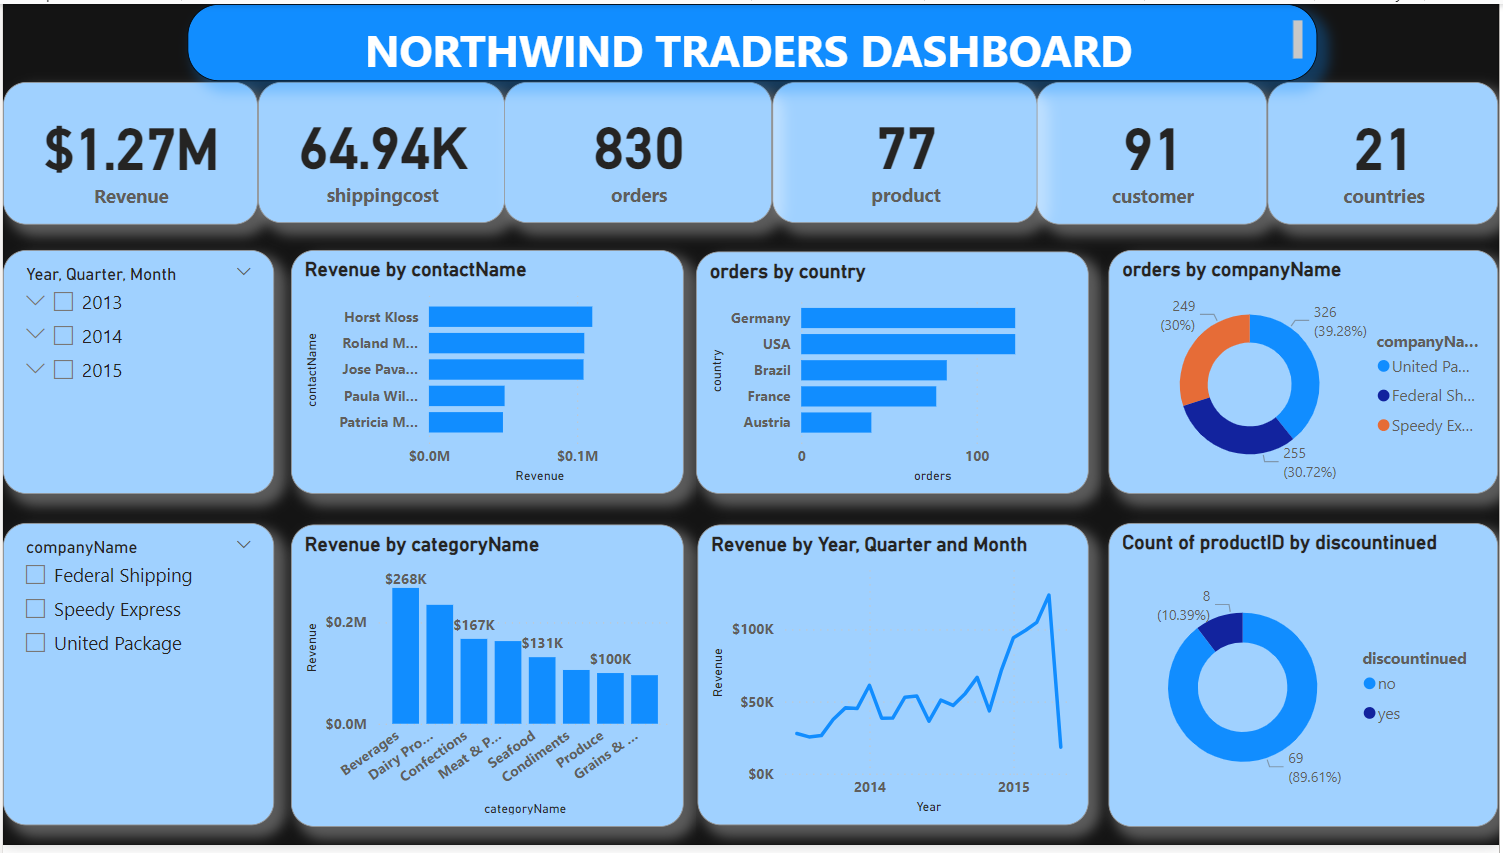

Layout of this report page (visuals, bound fields, positions):
{"tool":"powerbi","page":{"name":"Page 1","canvas":[1280,720],"ordinal":0},"visuals":[{"type":"card","fields":{"Values":["measure.Revenue"]},"box":[0,66.2,217.7,122.2],"z":0},{"type":"card","fields":{"Values":["measure.shippingcost"]},"box":[217.7,66.2,211.4,121],"z":1000},{"type":"card","fields":{"Values":["measure.customer"]},"box":[884.9,66.2,197.3,122.2],"z":2000},{"type":"card","fields":{"Values":["measure.product"]},"box":[658.3,66.2,226.6,121],"z":3000},{"type":"card","fields":{"Values":["measure.orders"]},"box":[429.1,66.2,229.2,121],"z":4000},{"type":"card","fields":{"Values":["measure.countries"]},"box":[1082.2,66.2,197.3,122.2],"z":5000},{"type":"slicer","fields":{"Values":["orders.orderDate.Variation.Date Hierarchy.Year","orders.orderDate.Variation.Date Hierarchy.Quarter","orders.orderDate.Variation.Date Hierarchy.Month"]},"box":[0,210.1,231.7,208.8],"z":6000},{"type":"slicer","fields":{"Values":["shippers.companyName"]},"box":[0,444.4,231.7,258.5],"z":7000},{"type":"clusteredBarChart","fields":{"Y":["measure.Revenue"],"Category":["customers.contactName"]},"box":[247,210.1,336.1,208.8],"z":8000},{"type":"clusteredBarChart","fields":{"Y":["measure.orders"],"Category":["customers.country"]},"box":[593.3,211.4,336.1,207.5],"z":9000},{"type":"columnChart","fields":{"Y":["measure.Revenue"],"Category":["categories.categoryName"]},"box":[247,445.6,336.1,258.5],"z":10000},{"type":"lineChart","fields":{"Y":["measure.Revenue"],"Category":["orders.orderDate.Variation.Date Hierarchy.Year","orders.orderDate.Variation.Date Hierarchy.Quarter","orders.orderDate.Variation.Date Hierarchy.Month"]},"box":[594.6,445.6,334.9,257.2],"z":11000},{"type":"donutChart","fields":{"Y":["measure.orders"],"Category":["shippers.companyName"]},"box":[946,210.1,333.6,208.8],"z":12000},{"type":"donutChart","fields":{"Category":["products.discountinued"],"Y":["CountNonNull(products.productID)"]},"box":[946,444.4,333.6,259.7],"z":13000},{"type":"textbox","box":[157.9,0,966.4,66.2],"z":14000}]}

Visuals, with their boxes in screenshot pixels (x1, y1, x2, y2), scaled from the page's 1280x720 canvas onto the 1503x853 screenshot:
card - measure.Revenue: box=[0, 78, 256, 223]
card - measure.shippingcost: box=[256, 78, 504, 222]
card - measure.customer: box=[1039, 78, 1271, 223]
card - measure.product: box=[773, 78, 1039, 222]
card - measure.orders: box=[504, 78, 773, 222]
card - measure.countries: box=[1271, 78, 1502, 223]
slicer - orders.orderDate.Variation.Date Hierarchy.Year x orders.orderDate.Variation.Date Hierarchy.Quarter: box=[0, 249, 272, 496]
slicer - shippers.companyName: box=[0, 526, 272, 833]
clusteredBarChart - measure.Revenue x customers.contactName: box=[290, 249, 685, 496]
clusteredBarChart - measure.orders x customers.country: box=[697, 250, 1091, 496]
columnChart - measure.Revenue x categories.categoryName: box=[290, 528, 685, 834]
lineChart - measure.Revenue x orders.orderDate.Variation.Date Hierarchy.Year: box=[698, 528, 1091, 833]
donutChart - measure.orders x shippers.companyName: box=[1111, 249, 1502, 496]
donutChart - products.discountinued x CountNonNull(products.productID): box=[1111, 526, 1502, 834]
textbox: box=[185, 0, 1320, 78]
